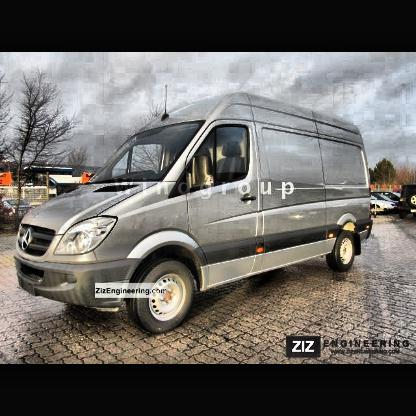Mercedes-Benz Sprinter Van 2012: (18, 94, 374, 332)
